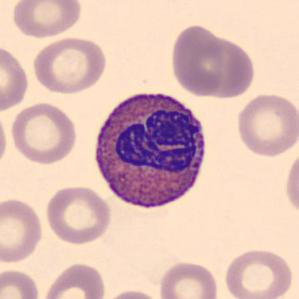Eosinophil: (87, 83, 214, 218)
RBC: (30, 34, 109, 96), (8, 100, 79, 166), (233, 91, 298, 158), (43, 183, 113, 245), (168, 23, 226, 97), (197, 33, 257, 101), (221, 245, 295, 299), (0, 196, 45, 266), (9, 0, 84, 40), (41, 260, 109, 299), (157, 259, 220, 299), (0, 43, 31, 113), (0, 267, 42, 299), (283, 147, 299, 220), (100, 287, 164, 299), (0, 106, 10, 171)
